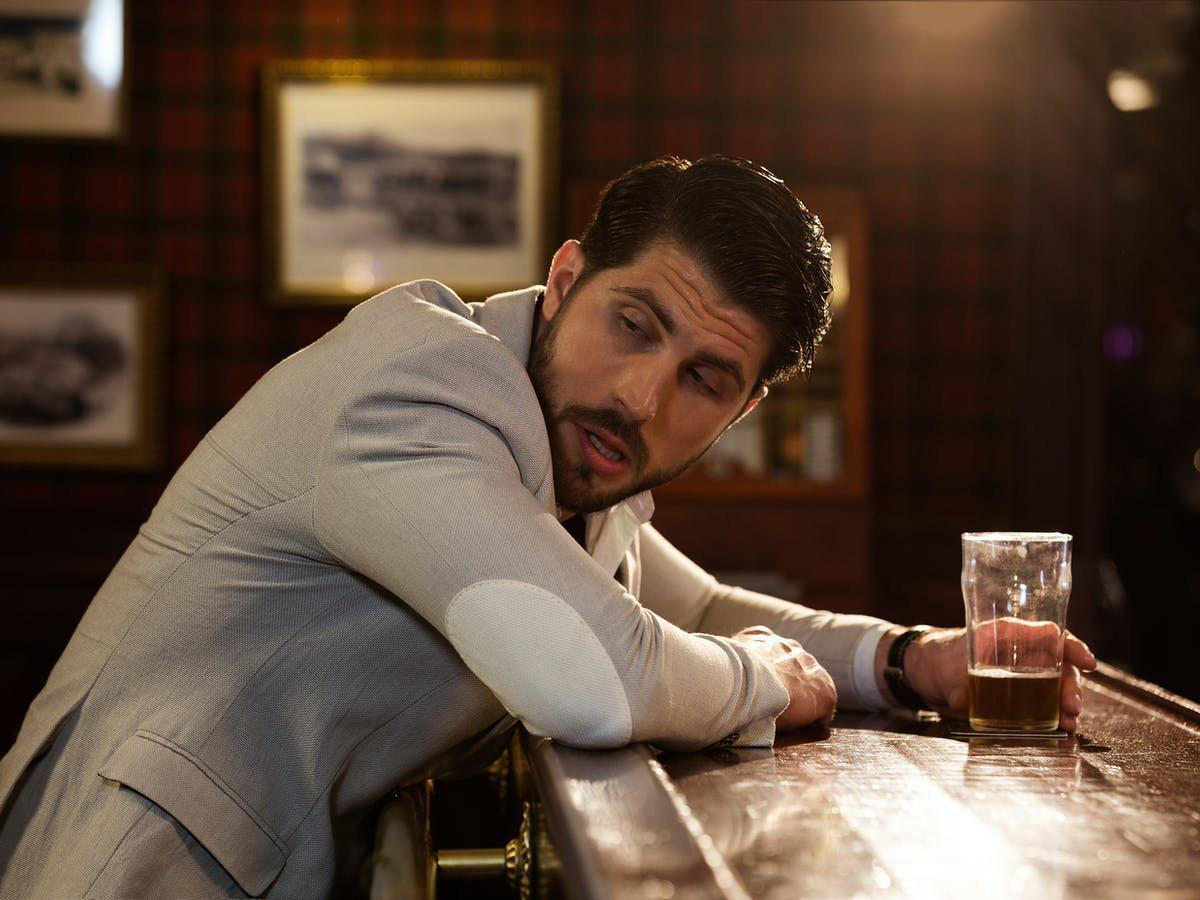Drunk: (549, 232, 751, 498)
